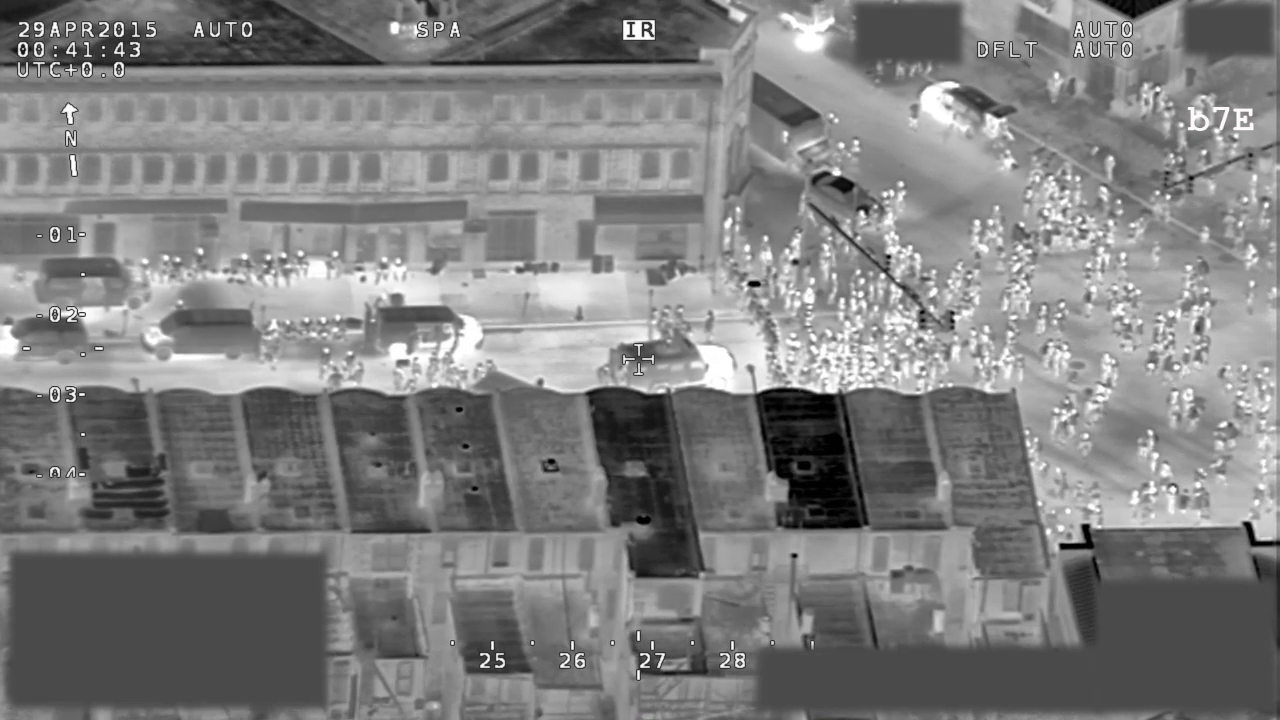vehicle: (750, 68, 838, 170), (359, 295, 486, 362), (24, 254, 155, 315), (137, 303, 261, 366), (914, 73, 1020, 145), (600, 335, 739, 386), (807, 168, 893, 239), (1, 314, 96, 367)
